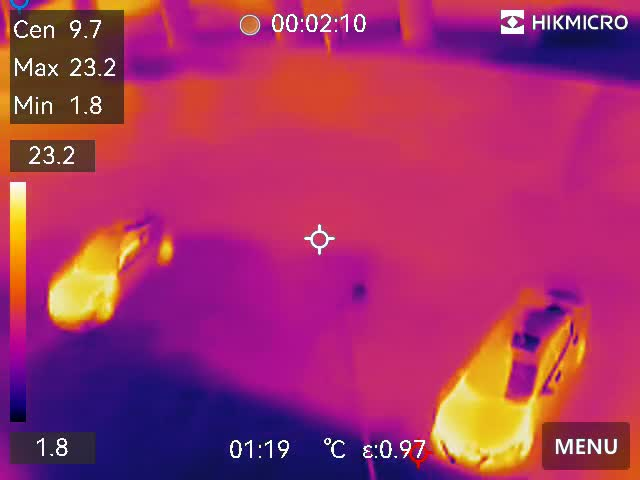smallCar: (423, 270, 588, 476), (36, 206, 182, 331)
